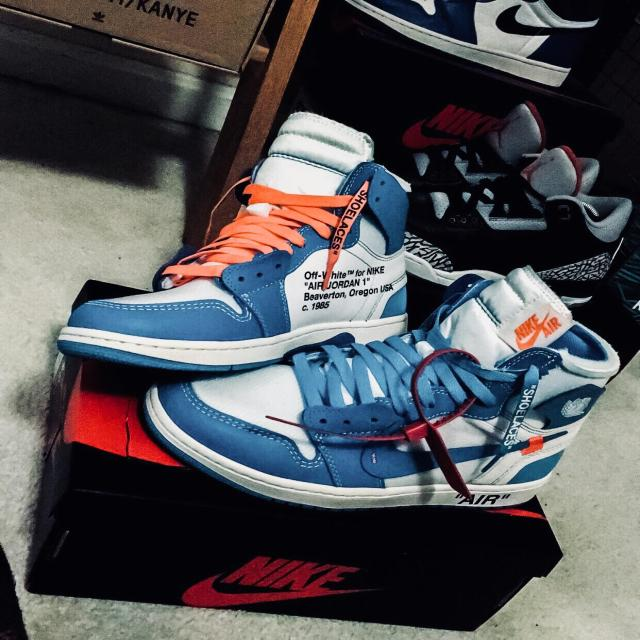shoe: (141, 263, 626, 512), (56, 112, 415, 372)
